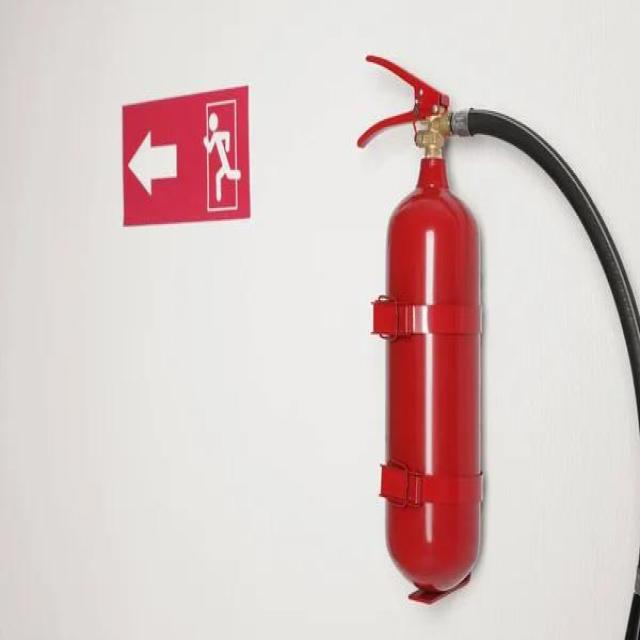fire_extinguisher: (350, 47, 639, 638)
